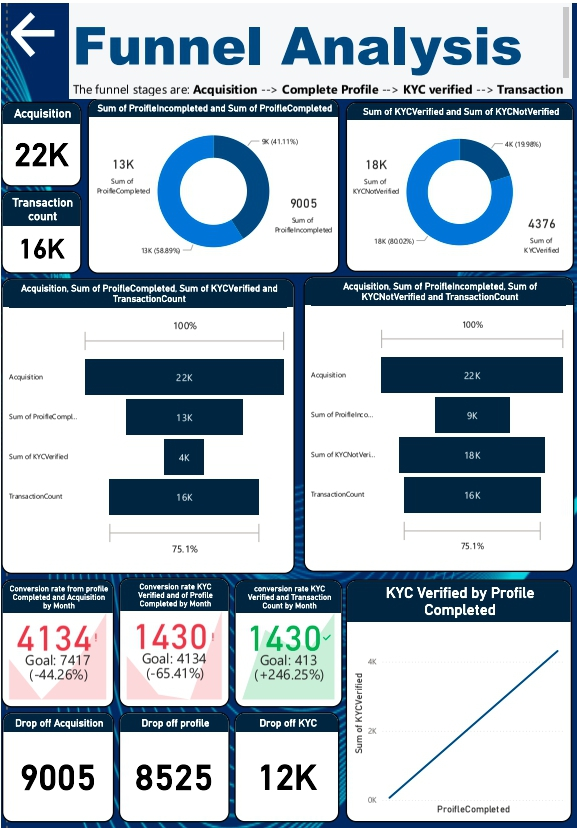

The dashboard page shown, as its layout file describes it:
{"tool":"powerbi","page":{"name":"Funnel stages","canvas":[882,1260],"ordinal":5},"visuals":[{"type":"card","title":"Acquisition","fields":{"Values":["Users_Table1 - Users_Table.Acquisition"]},"box":[0,150,122.9,130.2],"z":0},{"type":"donutChart","fields":{"Y":["Sum(Users_Table1 - Users_Table.ProifleIncompleted)","Sum(Users_Table1 - Users_Table.ProifleCompleted)"]},"box":[131.9,144.7,386.2,269.1],"z":1000},{"type":"card","fields":{"Values":["Sum(Users_Table1 - Users_Table.ProifleCompleted)"]},"box":[136.5,195.8,101,115.6],"z":2000},{"type":"card","fields":{"Values":["Sum(Users_Table1 - Users_Table.ProifleIncompleted)"]},"box":[411.5,251,104.2,125],"z":3000},{"type":"donutChart","fields":{"Y":["Sum(Users_Table1 - Users_Table.KYCVerified)","Sum(Users_Table1 - Users_Table.KYCNotVerified)"]},"box":[528.1,150,350,261.5],"z":4000},{"type":"card","fields":{"Values":["Sum(Users_Table1 - Users_Table.KYCVerified)"]},"box":[786.5,286.5,85.4,116.7],"z":5000},{"type":"card","fields":{"Values":["Sum(Users_Table1 - Users_Table.KYCNotVerified)"]},"box":[532.3,192.7,85.4,124],"z":6000},{"type":"card","title":"Transaction count","fields":{"Values":["Transactions_Table1 - Transactions_Table.TransactionCount"]},"box":[0,286.5,122.9,127.1],"z":7000},{"type":"funnel","fields":{"Y":["Users_Table1 - Users_Table.Acquisition","Sum(Users_Table1 - Users_Table.ProifleCompleted)","Sum(Users_Table1 - Users_Table.KYCVerified)","Transactions_Table1 - Transactions_Table.TransactionCount"]},"box":[0,420.8,450,453.1],"z":8000},{"type":"funnel","fields":{"Y":["Users_Table1 - Users_Table.Acquisition","Sum(Users_Table1 - Users_Table.ProifleIncompleted)","Sum(Users_Table1 - Users_Table.KYCNotVerified)","Transactions_Table1 - Transactions_Table.TransactionCount"]},"box":[463.5,417.7,414.6,453.1],"z":9000},{"type":"textbox","box":[104.1,0,771.1,146.4],"z":10000},{"type":"actionButton","box":[2.6,0,100,94.7],"z":11000},{"type":"kpi","title":"conversion rate KYC Verified and Transaction Count by Month","fields":{"TrendLine":["Date_table.Month"],"Goal":["Transactions_Table1 - Transactions_Table.TransactionCount"],"Indicator":["Sum(Users_Table1 - Users_Table.KYCVerified)"]},"box":[357.3,882.3,165.6,195.8],"z":12000},{"type":"kpi","title":"Conversion rate KYC Verified and  of Profile Completed by Month","fields":{"Goal":["Sum(Users_Table1 - Users_Table.ProifleCompleted)"],"TrendLine":["Date_table.Month"],"Indicator":["Sum(Users_Table1 - Users_Table.KYCVerified)"]},"box":[180.2,879.2,169.8,199],"z":13000},{"type":"kpi","title":"Conversion rate from profile Completed and Acquisition by Month","fields":{"Goal":["Users_Table1 - Users_Table.Acquisition"],"Indicator":["Sum(Users_Table1 - Users_Table.ProifleCompleted)"],"TrendLine":["Date_table.Month"]},"box":[0,882.3,172.9,195.8],"z":14000},{"type":"card","title":"Drop off Acquisition","fields":{"Values":["Users_Table1 - Users_Table.Drop_OffAcquisition"]},"box":[1,1085.4,171.9,168.8],"z":15000},{"type":"card","title":"Drop off profile","fields":{"Values":["Users_Table1 - Users_Table.Drop_OffProfile"]},"box":[180.2,1085.4,169.8,168.8],"z":16000},{"type":"card","title":"Drop off KYC","fields":{"Values":["Users_Table1 - Users_Table.Drop_OffKYC"]},"box":[357.3,1085.4,161.5,168.8],"z":17000},{"type":"lineChart","title":" KYC Verified by Profile Completed","fields":{"Category":["Users_Table1 - Users_Table.ProifleCompleted"],"Y":["Sum(Users_Table1 - Users_Table.KYCVerified)"]},"box":[528.1,882.3,346.9,371.9],"z":18000}]}

Visuals, with their boxes in screenshot pixels (x1, y1, x2, y2), scaled from the page's 882x1260 canvas onto the 577x828 screenshot:
"Acquisition" card: region(0, 99, 80, 184)
donutChart - Sum(Users_Table1 - Users_Table.ProifleIncompleted) x Sum(Users_Table1 - Users_Table.ProifleCompleted): region(86, 95, 339, 272)
card - Sum(Users_Table1 - Users_Table.ProifleCompleted): region(89, 129, 155, 205)
card - Sum(Users_Table1 - Users_Table.ProifleIncompleted): region(269, 165, 337, 247)
donutChart - Sum(Users_Table1 - Users_Table.KYCVerified) x Sum(Users_Table1 - Users_Table.KYCNotVerified): region(345, 99, 574, 270)
card - Sum(Users_Table1 - Users_Table.KYCVerified): region(515, 188, 570, 265)
card - Sum(Users_Table1 - Users_Table.KYCNotVerified): region(348, 127, 404, 208)
"Transaction count" card: region(0, 188, 80, 272)
funnel - Users_Table1 - Users_Table.Acquisition x Sum(Users_Table1 - Users_Table.ProifleCompleted): region(0, 277, 294, 574)
funnel - Users_Table1 - Users_Table.Acquisition x Sum(Users_Table1 - Users_Table.ProifleIncompleted): region(303, 274, 574, 572)
textbox: region(68, 0, 573, 96)
actionButton: region(2, 0, 67, 62)
"conversion rate KYC Verified and Transaction Count by Month" kpi: region(234, 580, 342, 708)
"Conversion rate KYC Verified and  of Profile Completed by Month" kpi: region(118, 578, 229, 709)
"Conversion rate from profile Completed and Acquisition by Month" kpi: region(0, 580, 113, 708)
"Drop off Acquisition" card: region(1, 713, 113, 824)
"Drop off profile" card: region(118, 713, 229, 824)
"Drop off KYC" card: region(234, 713, 339, 824)
" KYC Verified by Profile Completed" lineChart: region(345, 580, 572, 824)
